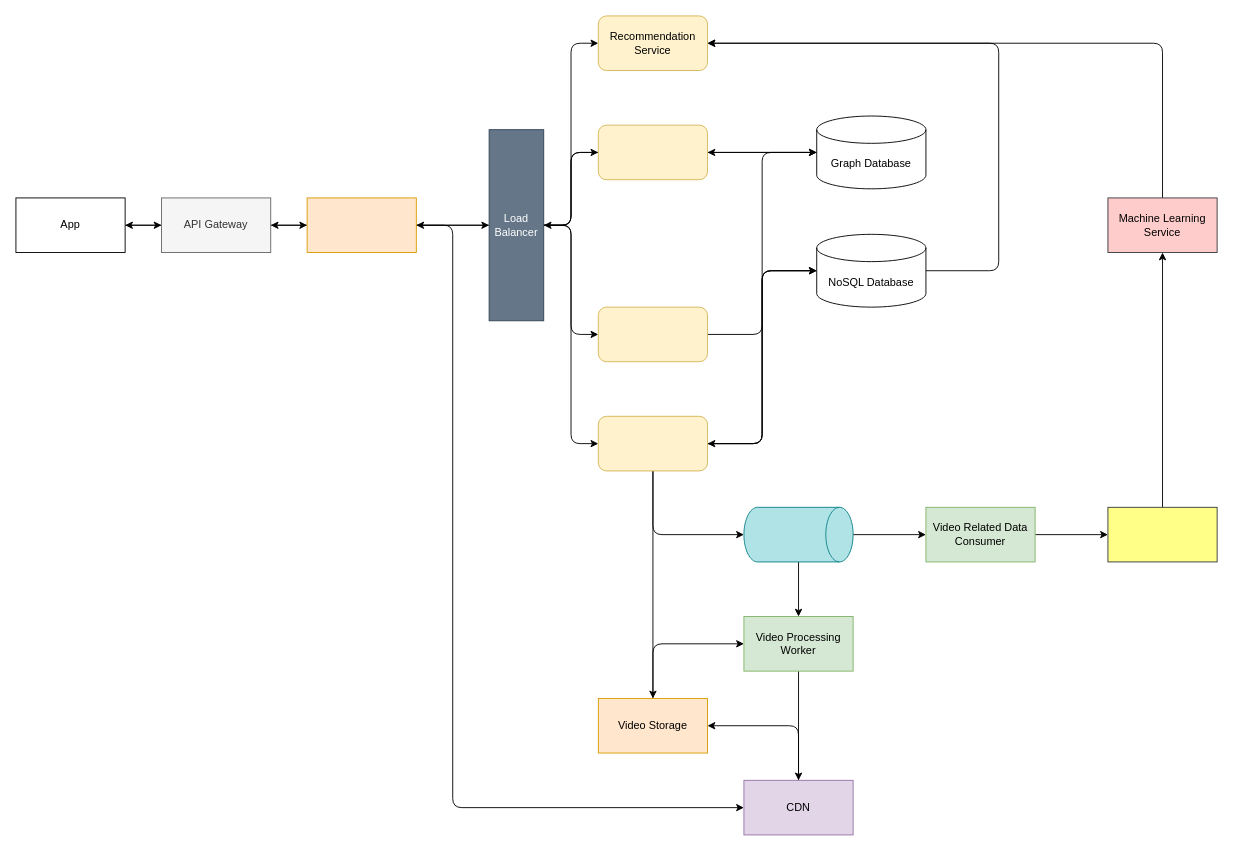
This 1233x851 diagram has some shape labels left out. The shapes that lost their labels are listed below. From the top down, each one's centre as x and y in pixels, then its label:
At (x=652, y=152): "User Service".
At (x=361, y=225): "Cache".
At (x=652, y=334): "Like & Comment Service".
At (x=652, y=443): "Video Service".
At (x=798, y=534): "Queue".
At (x=1162, y=534): "Big Data".
